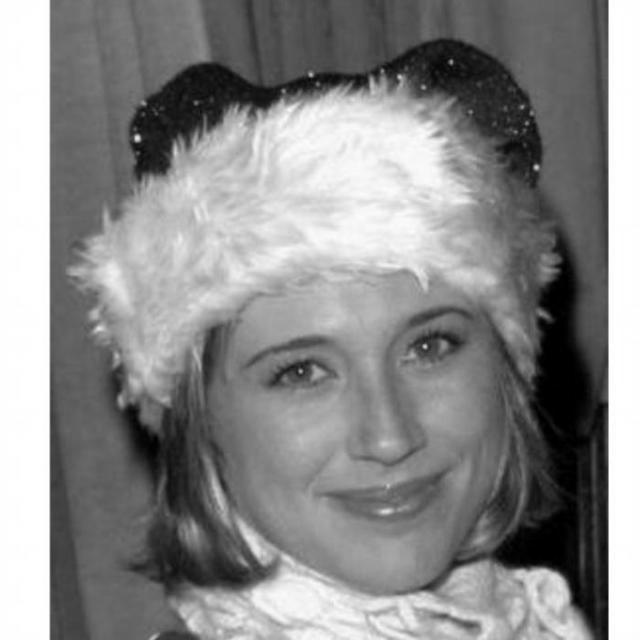real: (156, 110, 528, 608)
